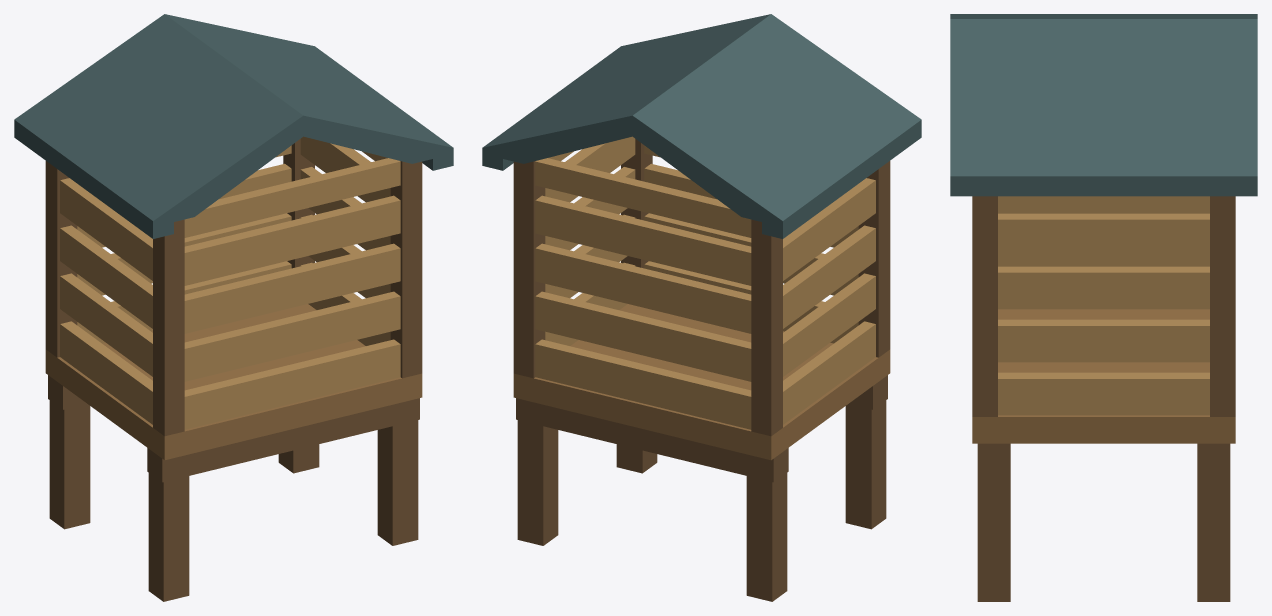
3 renders of one model, left to right at view 1: azimuth 30°, elevation 25°; view 2: azimuth 150°, elevation 25°; view 3: azimuth 270°, elevation 25°, orthographic. The views are drawn at different scales.
Parts seen in each view (by area): view 1: ContinuousDoublePitchedRoof, RaisedThickFloor, FrontVentilationSlat1, FrontVentilationSlat2, FrontVentilationSlat3, FrontVentilationSlat4, LeftFrontCornerStile, FrontVentilationSlat5, FrontTransverseBearingBeam, RightFrontCornerStile, LeftFrontGroundPost, LeftRearGroundPost (+16 smaller); view 2: ContinuousDoublePitchedRoof, RaisedThickFloor, RearVentilationSlat1, RearVentilationSlat2, RearVentilationSlat3, RearVentilationSlat4, LeftRearCornerStile, RearVentilationSlat5, RearTransverseBearingBeam, RightRearCornerStile, LeftRearGroundPost, LeftFrontGroundPost (+16 smaller); view 3: ContinuousDoublePitchedRoof, RaisedThickFloor, RightVentilationSlat1, RightVentilationSlat2, RightVentilationSlat3, RightVentilationSlat4, RightFrontCornerStile, RightRearCornerStile, RightFrontGroundPost, RightRearGroundPost, LeftVentilationSlat1, LeftVentilationSlat2 (+3 smaller).
Part boxes in pixels (<box>): ContinuousDoublePitchedRoof: <box>14,14,453,238</box>; RaisedThickFloor: <box>45,304,422,460</box>; FrontVentilationSlat1: <box>184,339,400,429</box>; FrontVentilationSlat2: <box>184,291,400,381</box>; FrontVentilationSlat3: <box>184,243,400,333</box>; FrontVentilationSlat4: <box>184,195,400,285</box>; LeftFrontCornerStile: <box>153,219,184,436</box>; FrontVentilationSlat5: <box>184,158,400,237</box>; FrontTransverseBearingBeam: <box>147,398,419,482</box>; RightFrontCornerStile: <box>390,161,422,378</box>; LeftFrontGroundPost: <box>148,473,189,601</box>; LeftRearGroundPost: <box>49,400,90,529</box>; ContinuousDoublePitchedRoof: <box>482,14,921,238</box>; RaisedThickFloor: <box>513,304,890,460</box>; RearVentilationSlat1: <box>535,339,751,429</box>; RearVentilationSlat2: <box>535,291,751,381</box>; RearVentilationSlat3: <box>535,243,751,333</box>; RearVentilationSlat4: <box>535,195,751,285</box>; LeftRearCornerStile: <box>751,219,782,436</box>; RearVentilationSlat5: <box>535,158,751,237</box>; RearTransverseBearingBeam: <box>516,398,788,482</box>; RightRearCornerStile: <box>513,161,545,378</box>; LeftRearGroundPost: <box>746,473,787,601</box>; LeftFrontGroundPost: <box>845,400,886,529</box>; ContinuousDoublePitchedRoof: <box>950,14,1257,196</box>; RaisedThickFloor: <box>972,309,1235,443</box>; RightVentilationSlat1: <box>998,372,1209,415</box>; RightVentilationSlat2: <box>998,319,1209,362</box>; RightVentilationSlat3: <box>998,266,1209,309</box>; RightVentilationSlat4: <box>998,213,1209,256</box>; RightFrontCornerStile: <box>972,196,997,416</box>; RightRearCornerStile: <box>1210,196,1235,416</box>; RightFrontGroundPost: <box>977,470,1010,601</box>; RightRearGroundPost: <box>1197,470,1230,601</box>; LeftVentilationSlat1: <box>998,256,1209,266</box>; LeftVentilationSlat2: <box>998,203,1209,213</box>.
Bounding box in the file's own units: 2.1 × 3.1 × 1.68.
